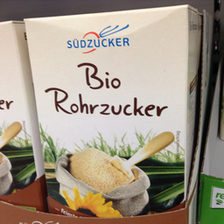sugar: (22, 4, 197, 218), (1, 20, 45, 211)
